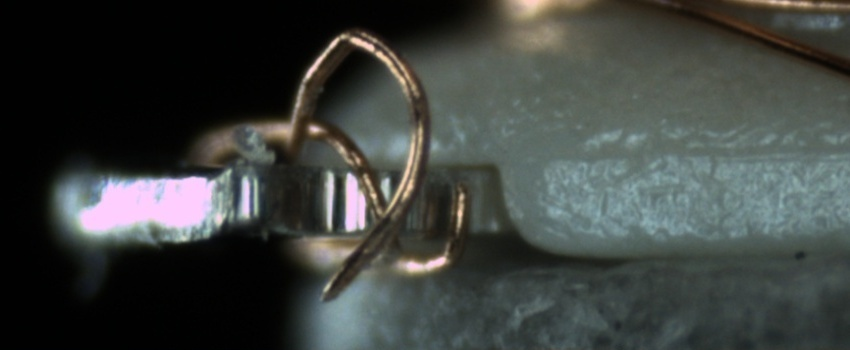DL: (550, 117, 849, 183)
TE: (216, 62, 487, 295)
